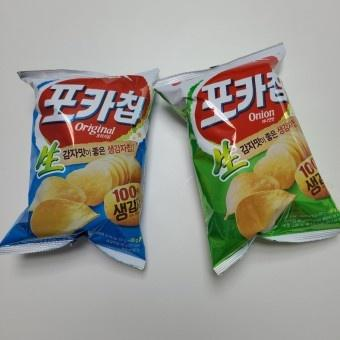snack: (154, 41, 340, 276), (0, 66, 162, 272)
